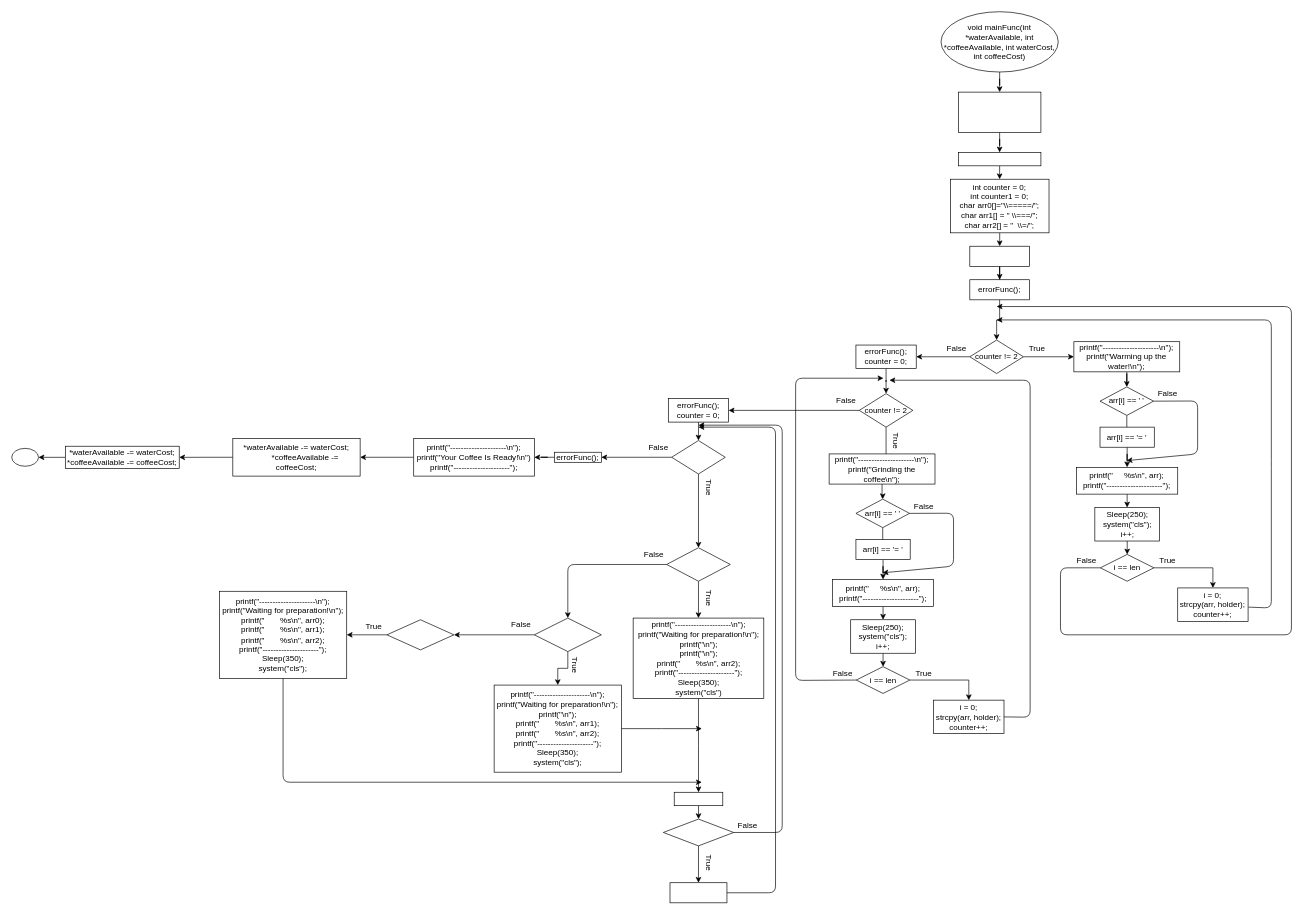
Image size: 1309x915. Some labels were removed from this diagram. Here are the shapes that lost their labels. From the top down, the centre of each, then its label:
pixel 999 111: int i = 0; char arr[] = "| |"; int len = strlen(arr); char holder[len];
pixel 999 159: strcpy(holder, arr);
pixel 999 256: srand(time(0));
pixel 25 457: End
pixel 698 457: counter != 4
pixel 698 564: counter1 == 0
pixel 420 634: counter1 == 2
pixel 567 634: counter1 == 1
pixel 698 799: counter1++;
pixel 698 832: counter1 == 3
pixel 698 892: counter1 = 0; counter++;
